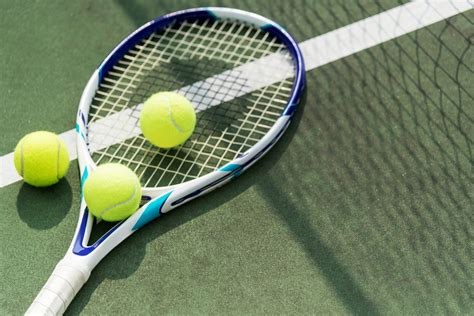tennis_ball: (83, 162, 143, 222), (138, 91, 197, 149), (13, 130, 70, 188)
